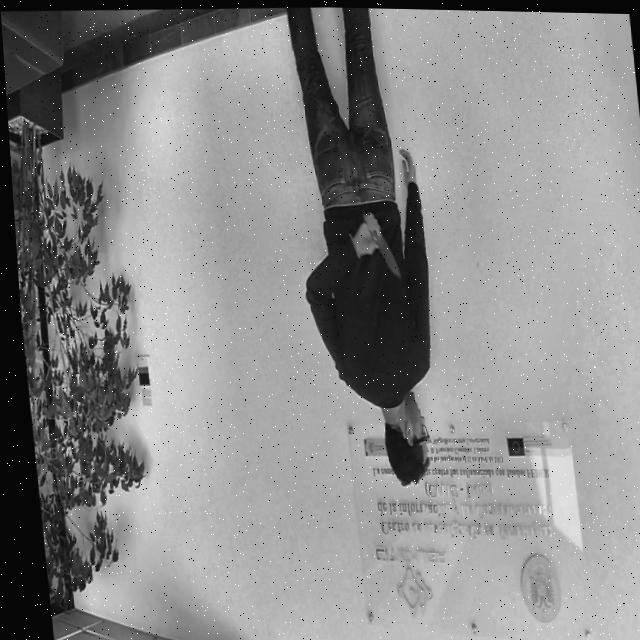knife: (372, 232, 398, 278)
